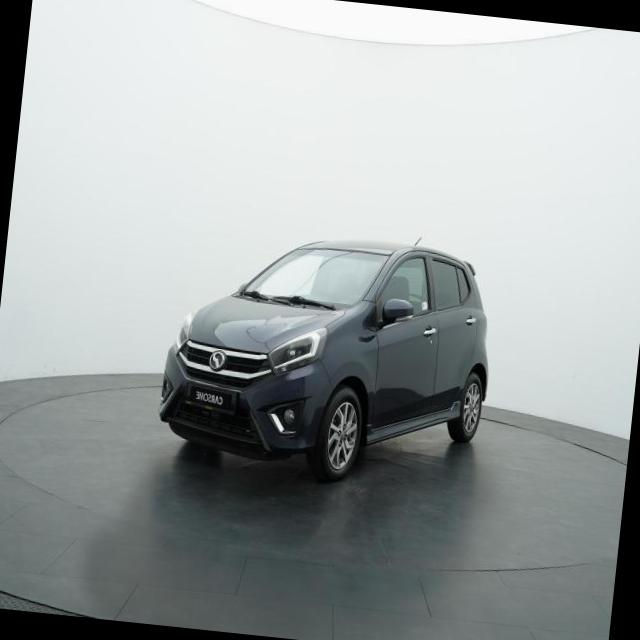PeroduaAxia: (151, 211, 504, 498)
